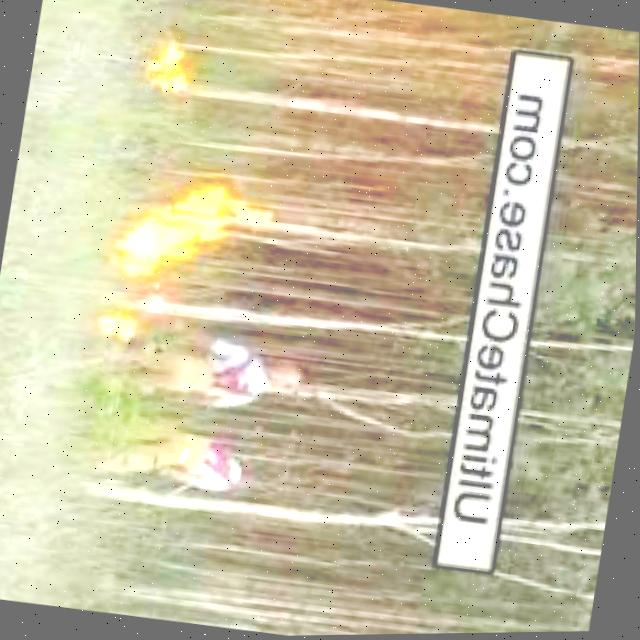Fire: (111, 168, 254, 296), (102, 284, 169, 343), (145, 39, 196, 95)
